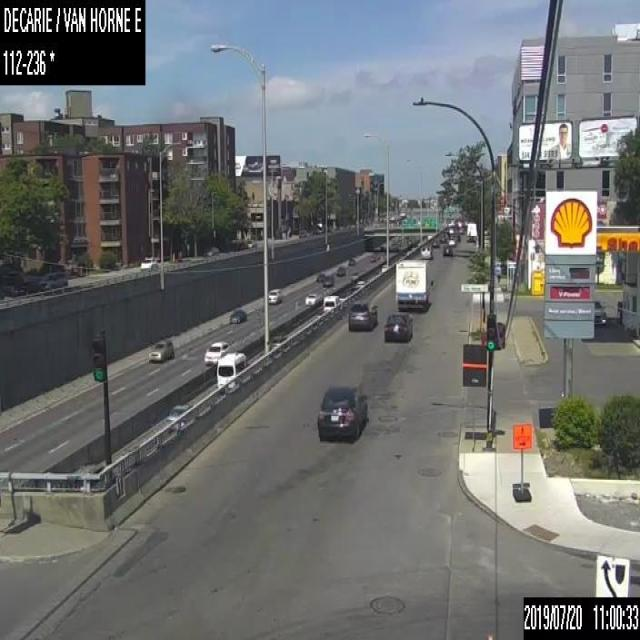construction: (510, 424, 533, 500)
vehicle: (316, 383, 368, 440), (394, 258, 432, 311), (216, 351, 248, 389), (346, 298, 376, 330), (384, 313, 412, 342), (146, 338, 174, 362), (203, 340, 230, 364), (164, 401, 192, 423), (267, 328, 292, 352), (39, 272, 68, 290), (14, 279, 38, 295), (594, 298, 605, 326), (323, 295, 340, 313), (228, 307, 247, 323), (266, 287, 283, 304), (139, 255, 159, 268), (464, 219, 476, 240), (202, 244, 218, 256), (420, 243, 432, 258), (322, 272, 335, 285), (304, 293, 316, 305), (335, 264, 345, 275), (316, 270, 326, 281), (443, 244, 452, 255), (246, 239, 256, 248), (430, 236, 439, 246), (355, 279, 365, 287), (448, 236, 456, 245), (348, 256, 356, 265), (380, 264, 387, 272)
